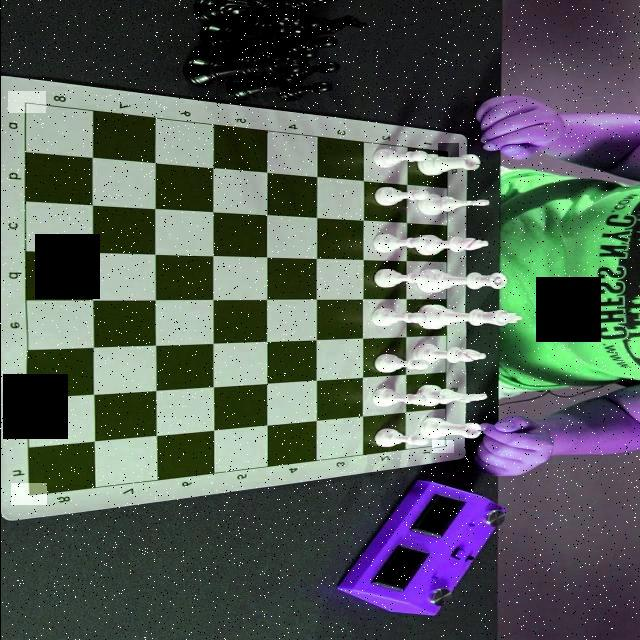chess-table-corners: (7, 91, 45, 113), (10, 483, 46, 505), (431, 438, 453, 452), (437, 143, 458, 157)
